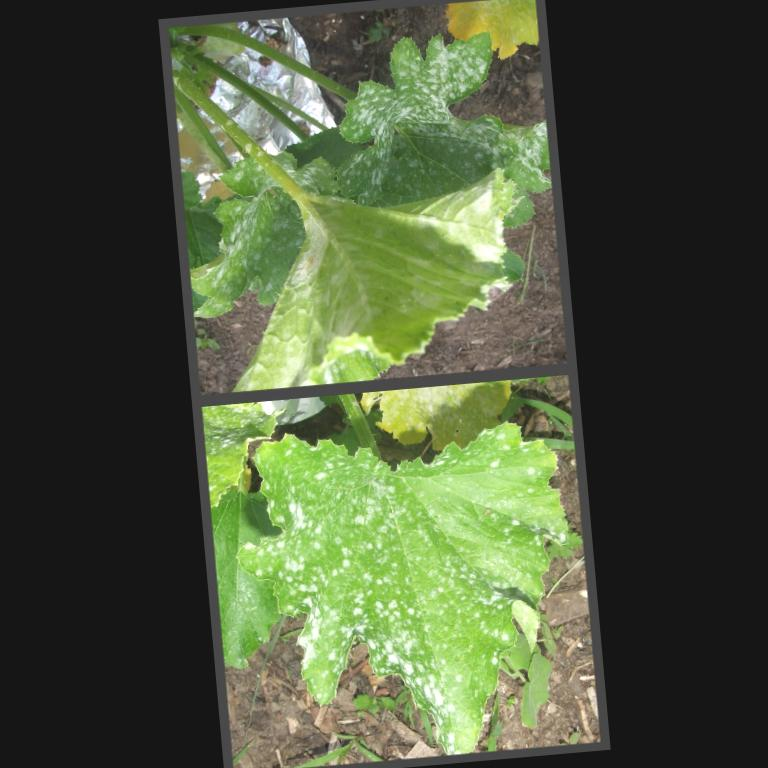powdery-mildew: (300, 466, 423, 616)
